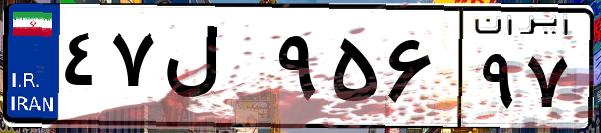4: (57, 26, 110, 100)
5: (330, 28, 385, 110)
6: (385, 28, 445, 110)
7: (525, 38, 570, 115), (110, 28, 158, 98)
9: (270, 28, 330, 110), (475, 38, 525, 113)
ل: (158, 20, 270, 120)
